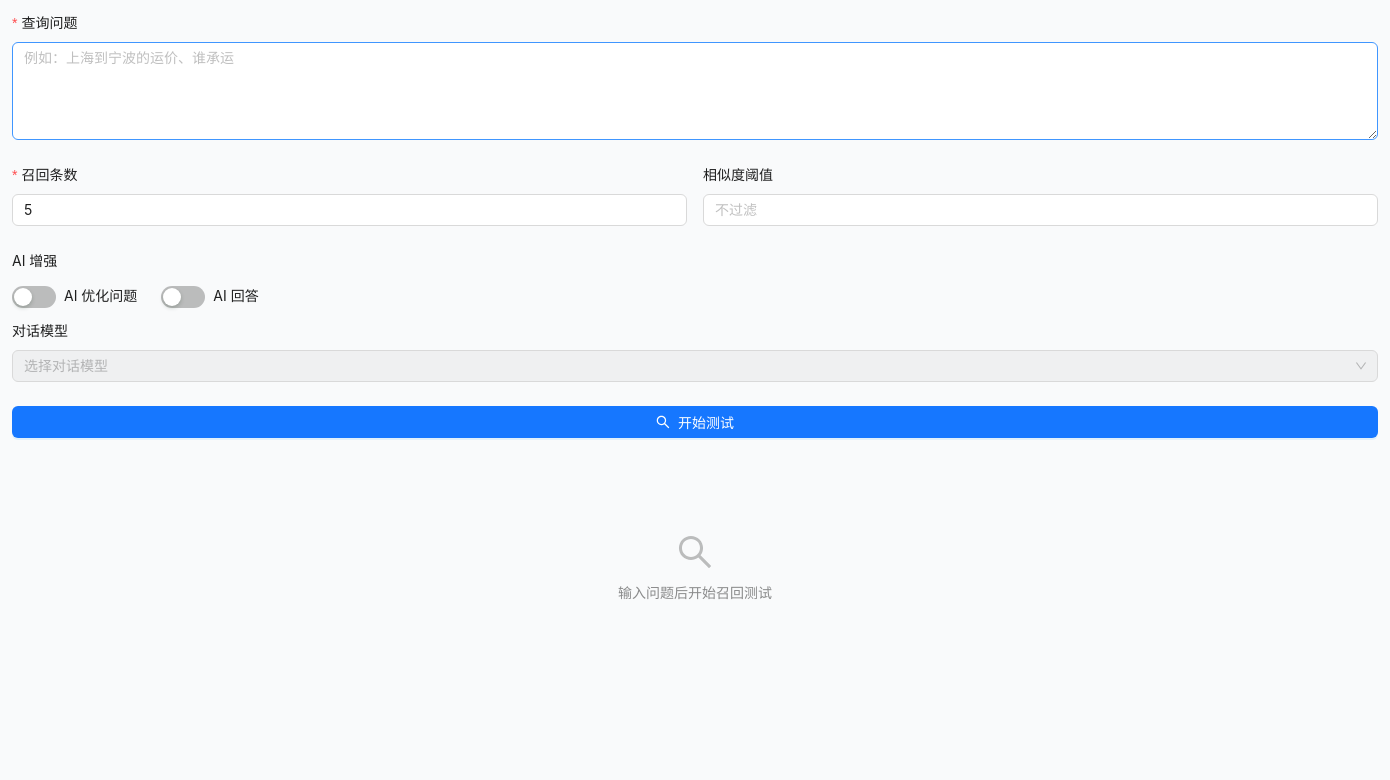
Test: KnowledgeGraphRecallTest › 输入问题后发起召回并渲染命中项与一跳邻居
Type "运价" into the text box at (695, 91), box [12,42,1378,140]
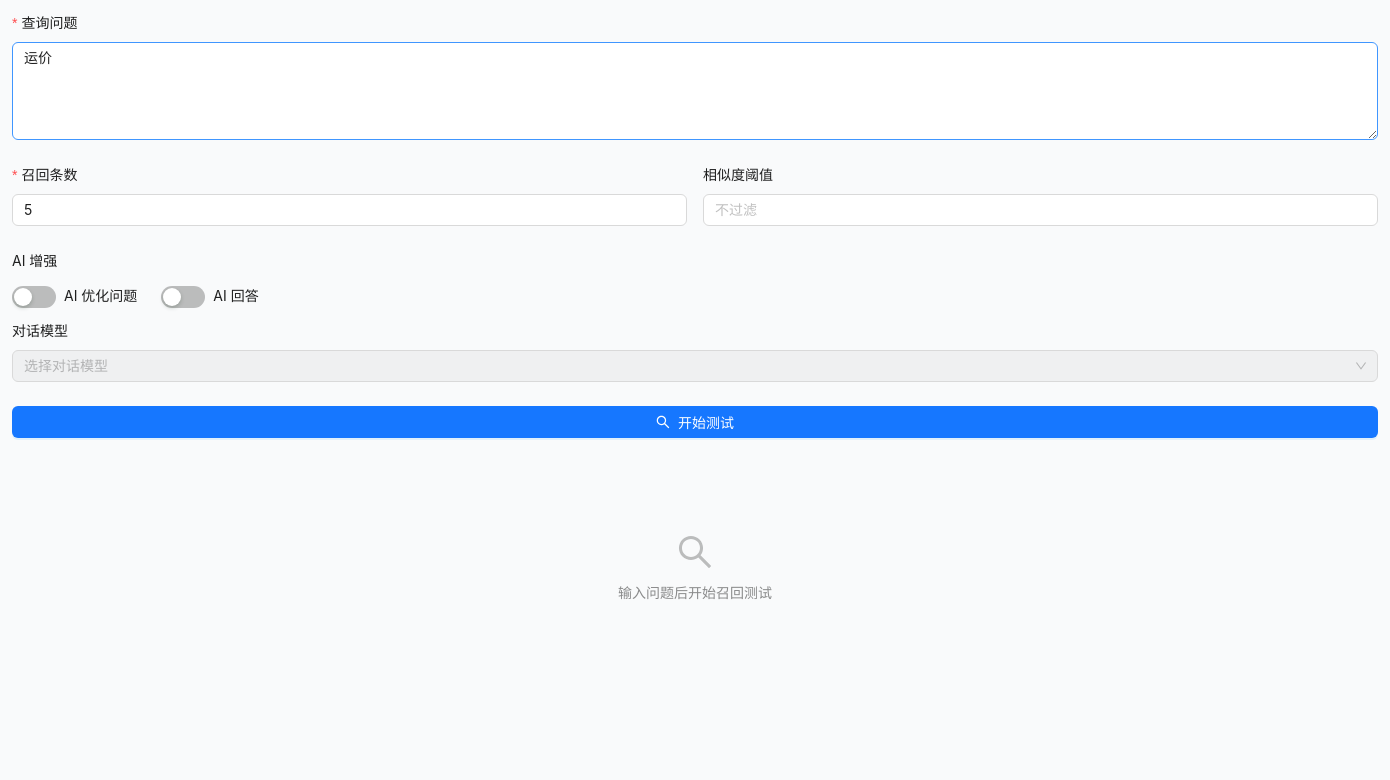
Click the button "开始测试" at (695, 422), box [12,406,1378,438]
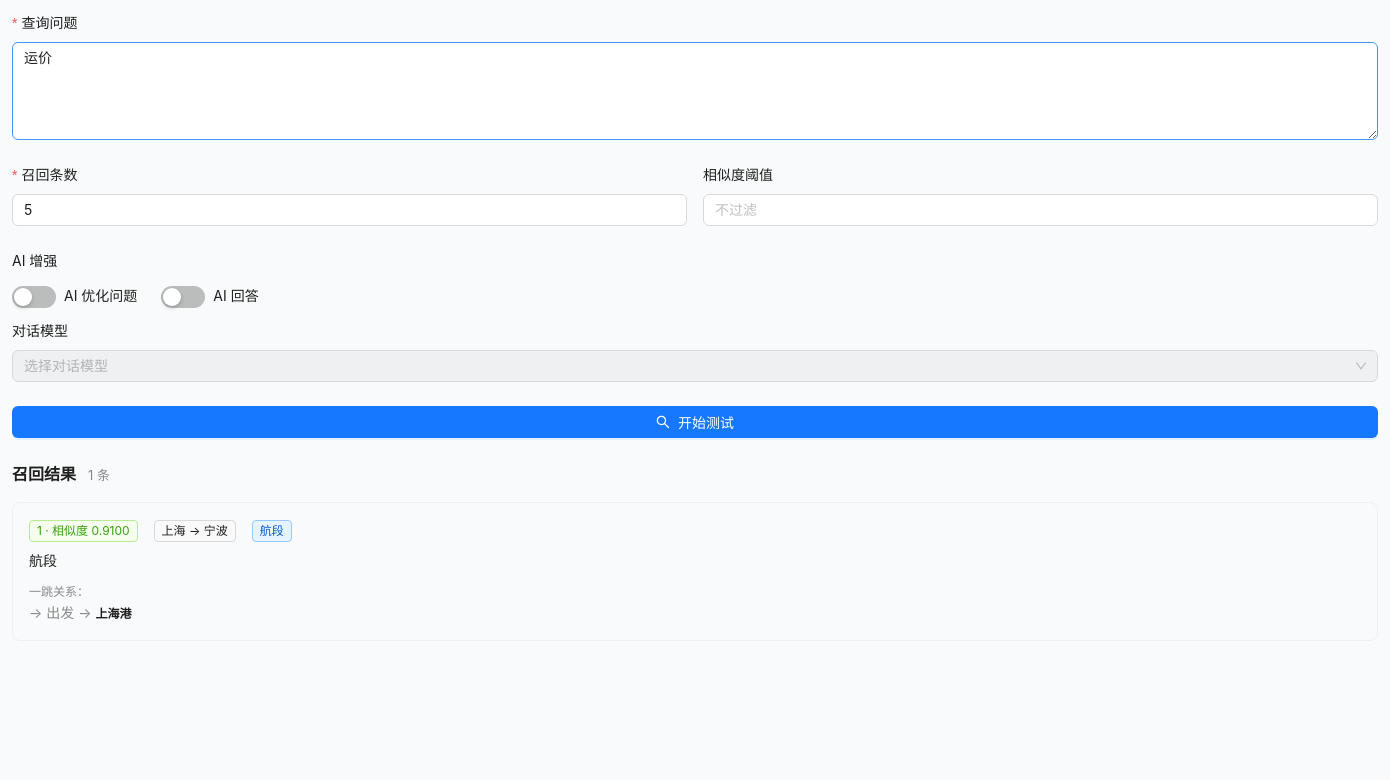
Now the heading "召回结果1 条" is shown, box [12,464,110,484]
Now the text "上海 → 宁波" is shown, box [154,520,236,542]
Now the text "航段" next to "上海 → 宁波" is shown, box [260,523,284,538]
